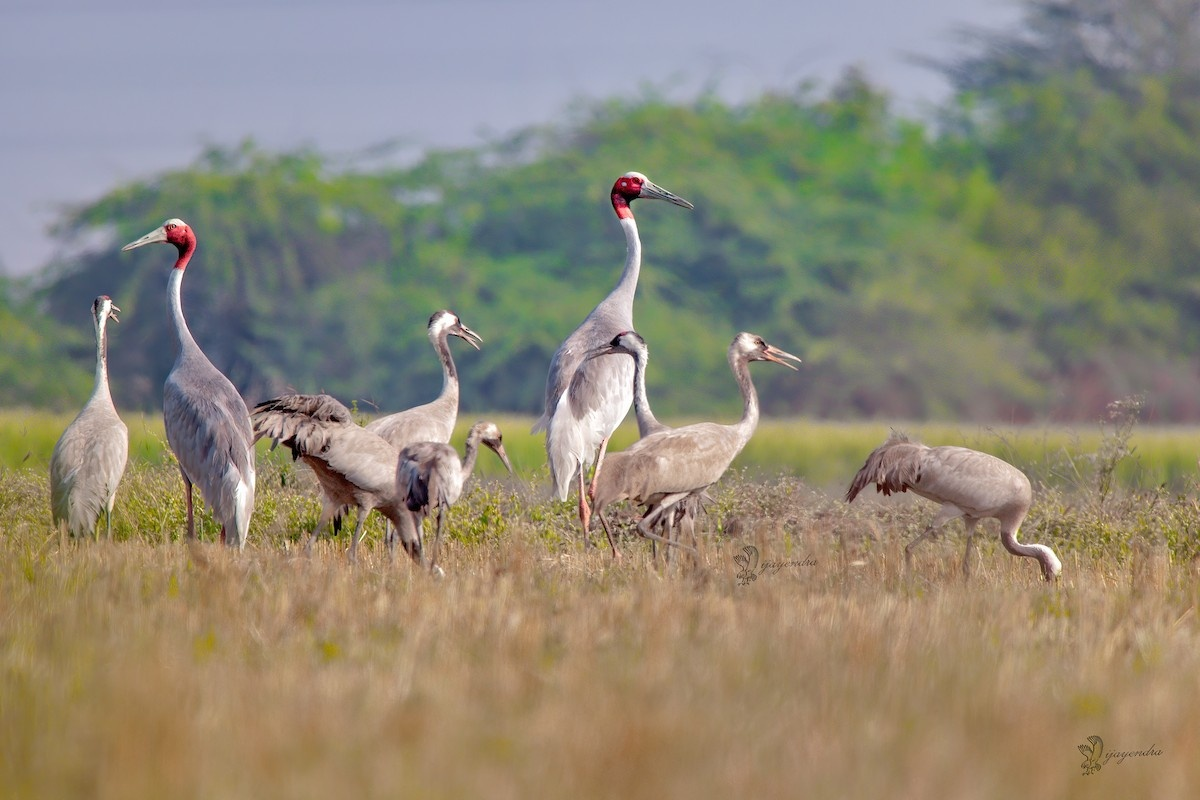crane: (539, 165, 700, 531), (573, 321, 809, 565), (117, 210, 273, 554), (849, 409, 1077, 591), (46, 286, 130, 560), (386, 419, 535, 565), (377, 295, 494, 437), (582, 328, 673, 445)
